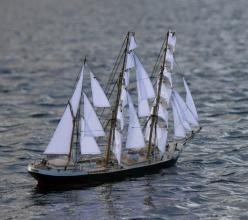fanchuan: (30, 27, 211, 189)
